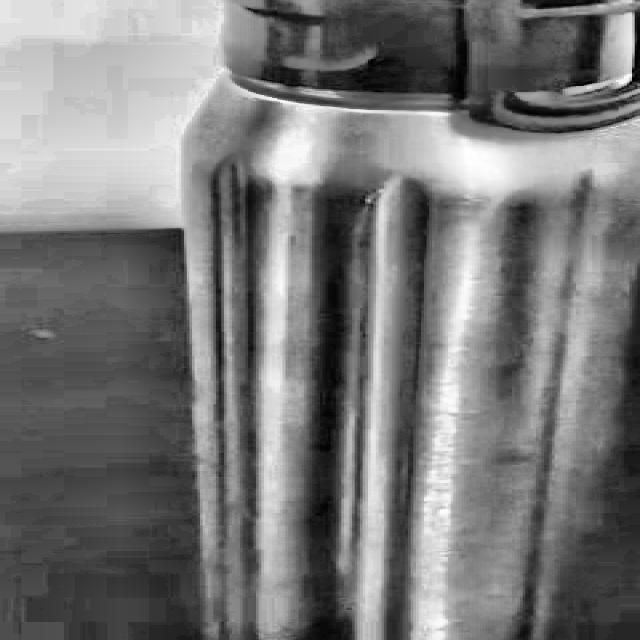bottle: (179, 0, 640, 640)
